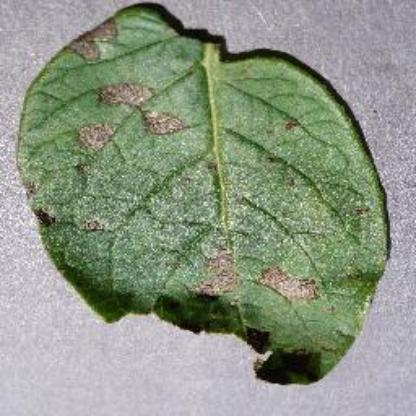Early-Blight: (18, 4, 392, 388)
